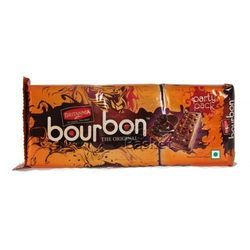VEG: (211, 150, 220, 158)
